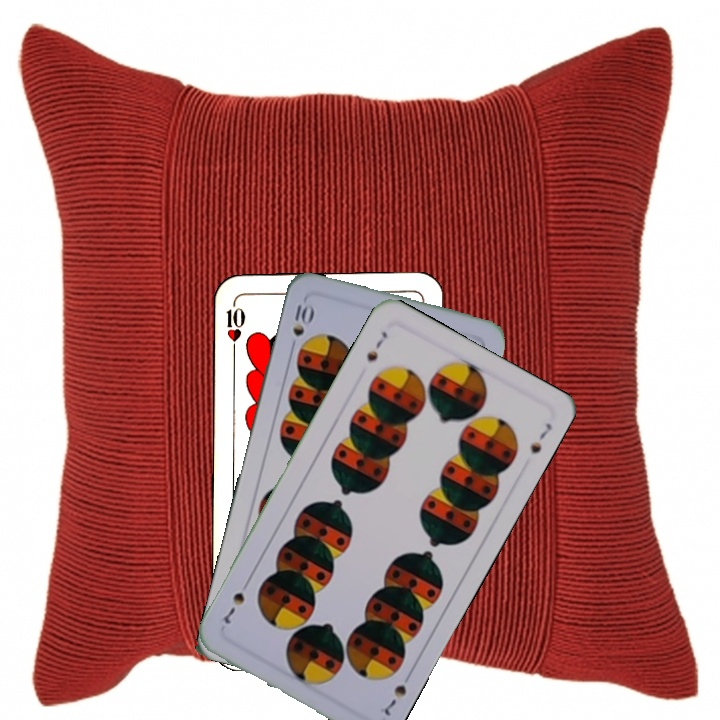H10: (223, 296, 248, 355)
S10: (288, 300, 316, 339)
S7: (375, 667, 415, 719), (362, 327, 390, 364)
